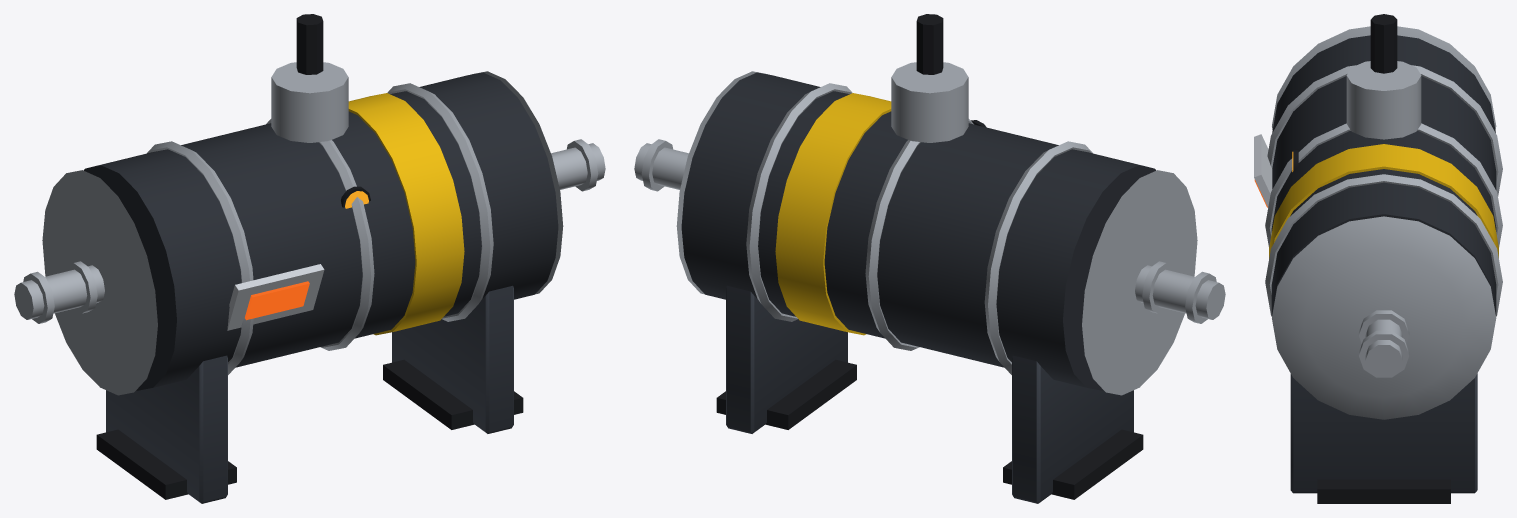
File: scrubber_catalytic_converter.glb
The picture shows the model from 3 angles, left to right: view 1: azimuth 30°, elevation 25°; view 2: azimuth 150°, elevation 25°; view 3: azimuth 270°, elevation 25°; orthographic projection. The views are drawn at different scales.
Parts seen in each view (by area): view 1: scrubber_catalytic_converter; view 2: scrubber_catalytic_converter; view 3: scrubber_catalytic_converter.
Boxes of the visible parts, x1,y1,x2,y2 form: scrubber_catalytic_converter: (14,14,605,503); scrubber_catalytic_converter: (634,14,1225,503); scrubber_catalytic_converter: (1254,14,1502,503).
Size of the model in its own units: 2.4 by 1.65 by 0.9316.
